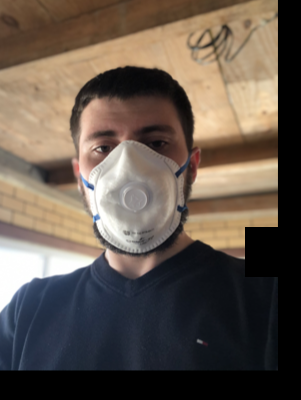with_mask: (80, 114, 189, 255)
